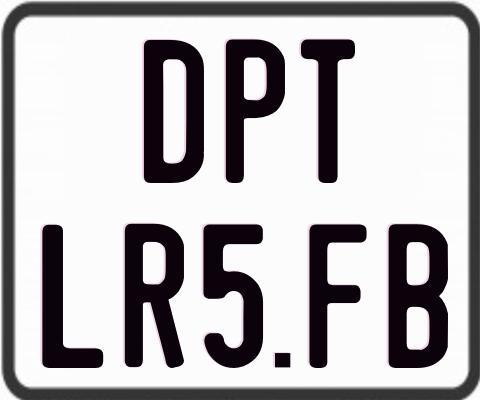5: (203, 223, 267, 371)
B: (386, 224, 450, 369)
D: (143, 40, 207, 188)
F: (306, 222, 366, 368)
L: (41, 224, 104, 370)
P: (226, 38, 287, 185)
R: (123, 221, 185, 368)
T: (299, 37, 357, 182)
